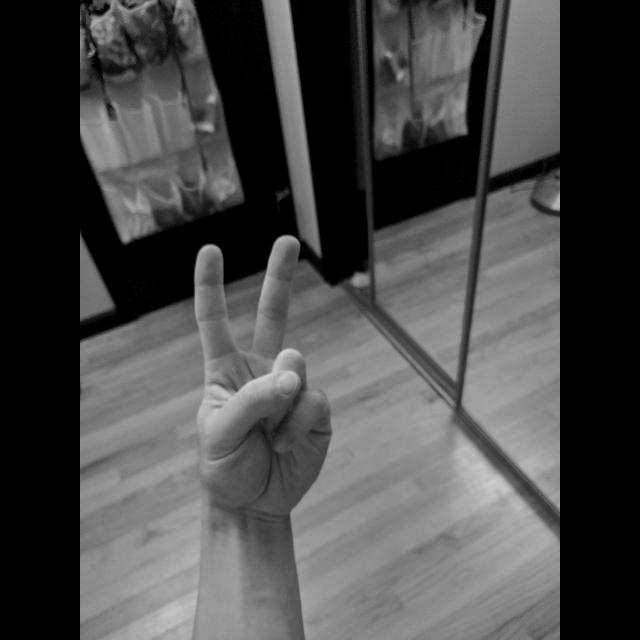V: (190, 230, 336, 526)
